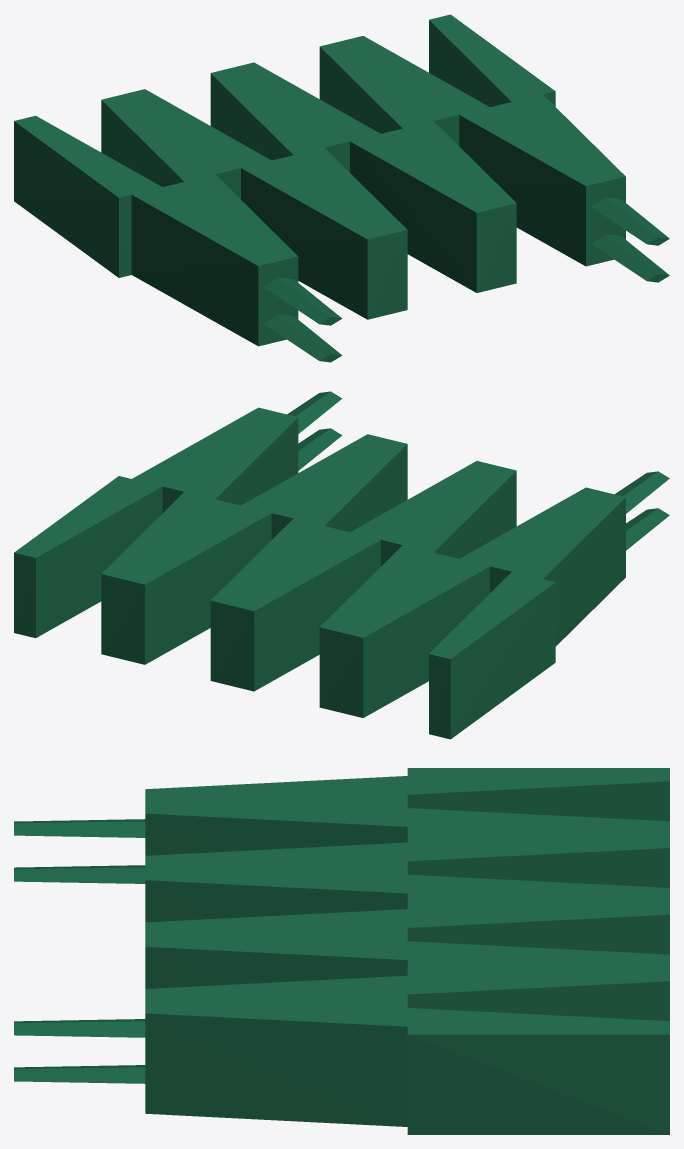
Rendered from scrap-iron-mint.glb.
3 views of the same model, one above another, from view 1: azimuth 30°, elevation 25°; view 2: azimuth 150°, elevation 25°; view 3: azimuth 270°, elevation 25° (orthographic). The views are drawn at different scales.
Parts seen in each view (by area): view 1: scrap-iron-mint; view 2: scrap-iron-mint; view 3: scrap-iron-mint.
Boxes of the visible parts, bbox=[...] form: scrap-iron-mint: bbox=[14, 14, 669, 362]; scrap-iron-mint: bbox=[14, 391, 669, 739]; scrap-iron-mint: bbox=[14, 768, 669, 1134].
Size of the model in its own units: 0.74 by 0.13 by 0.77.
